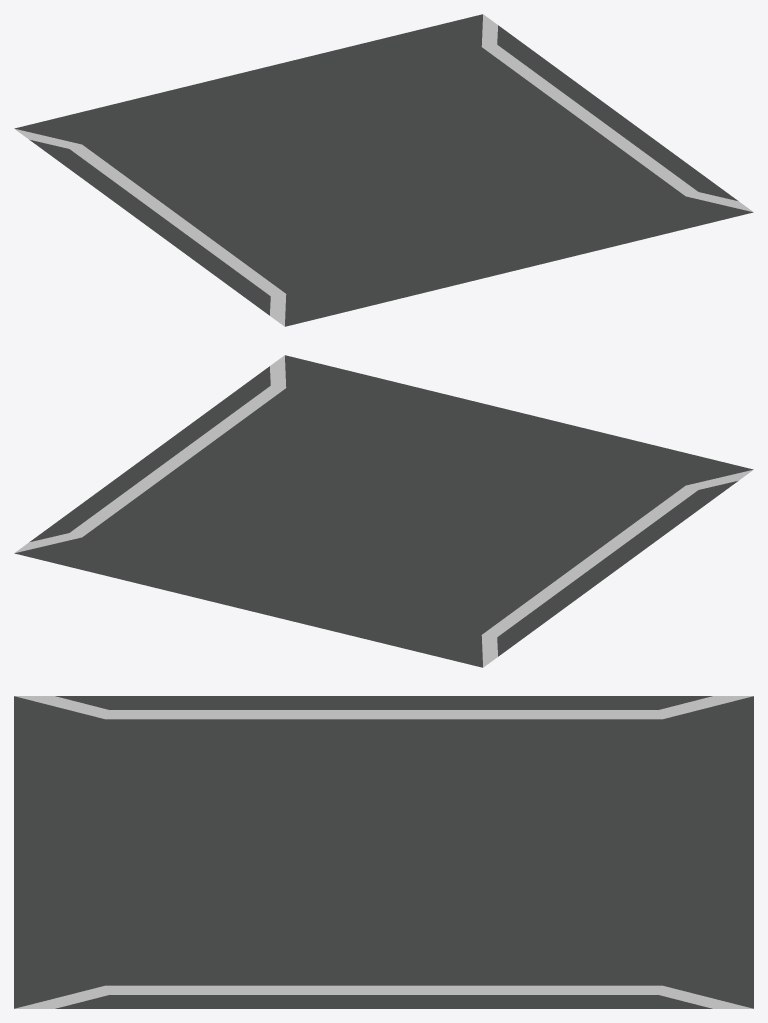
File: smallStreet_2.fbx
3 renders of one model, top to bottom at view 1: azimuth 30°, elevation 25°; view 2: azimuth 150°, elevation 25°; view 3: azimuth 270°, elevation 25°, orthographic. The views are drawn at different scales.
Visible parts, largest first — view 1: smallStreet_2; view 2: smallStreet_2; view 3: smallStreet_2.
Part boxes in pixels (<box>): smallStreet_2: <box>14,14,753,326</box>; smallStreet_2: <box>14,355,753,667</box>; smallStreet_2: <box>14,696,753,1008</box>.
Size of the model in its own units: 375 by 0 by 375.
